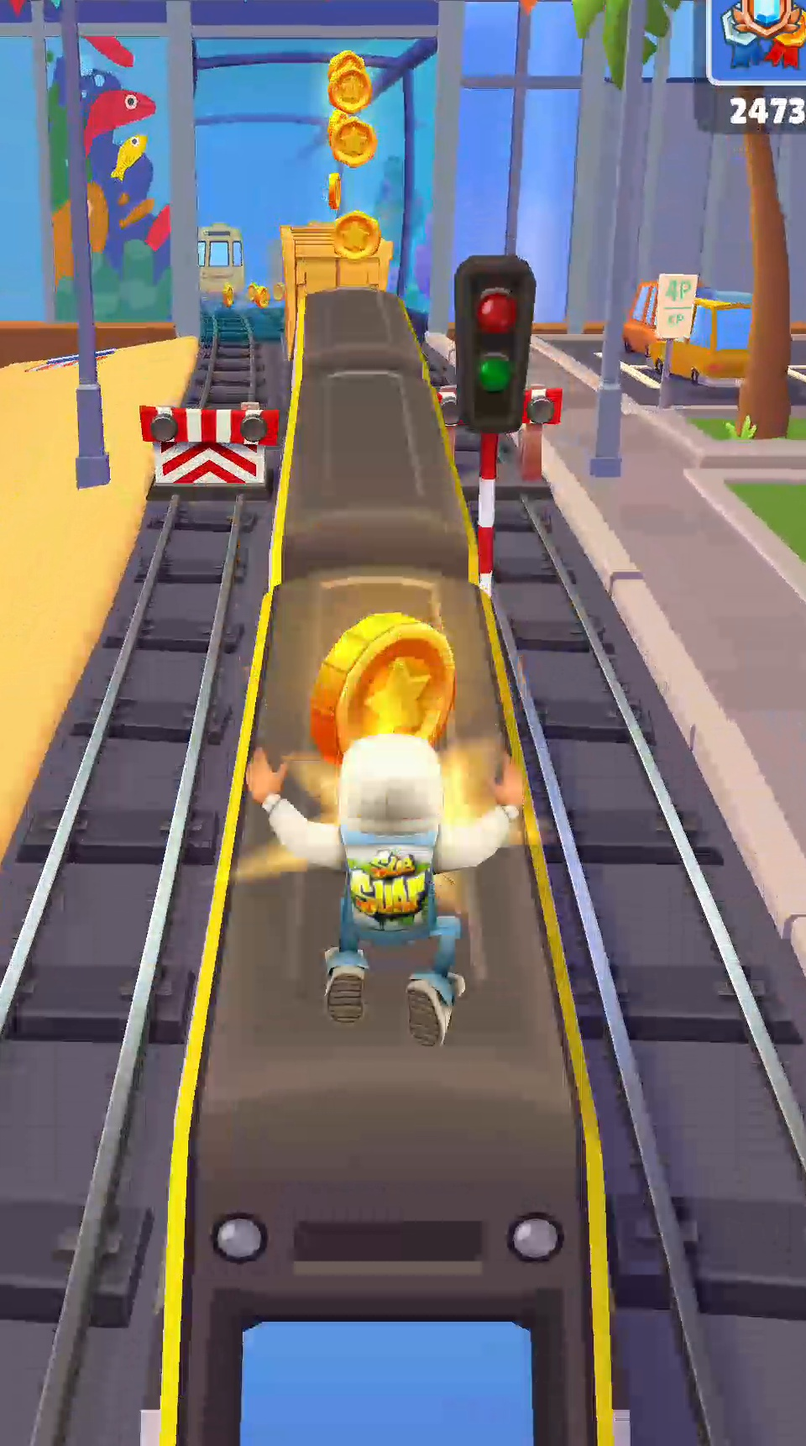roll blocker: (140, 401, 279, 490), (517, 387, 562, 482), (436, 386, 459, 448)
traffic light: (455, 254, 535, 592)
train: (280, 212, 392, 353), (198, 223, 244, 298)
